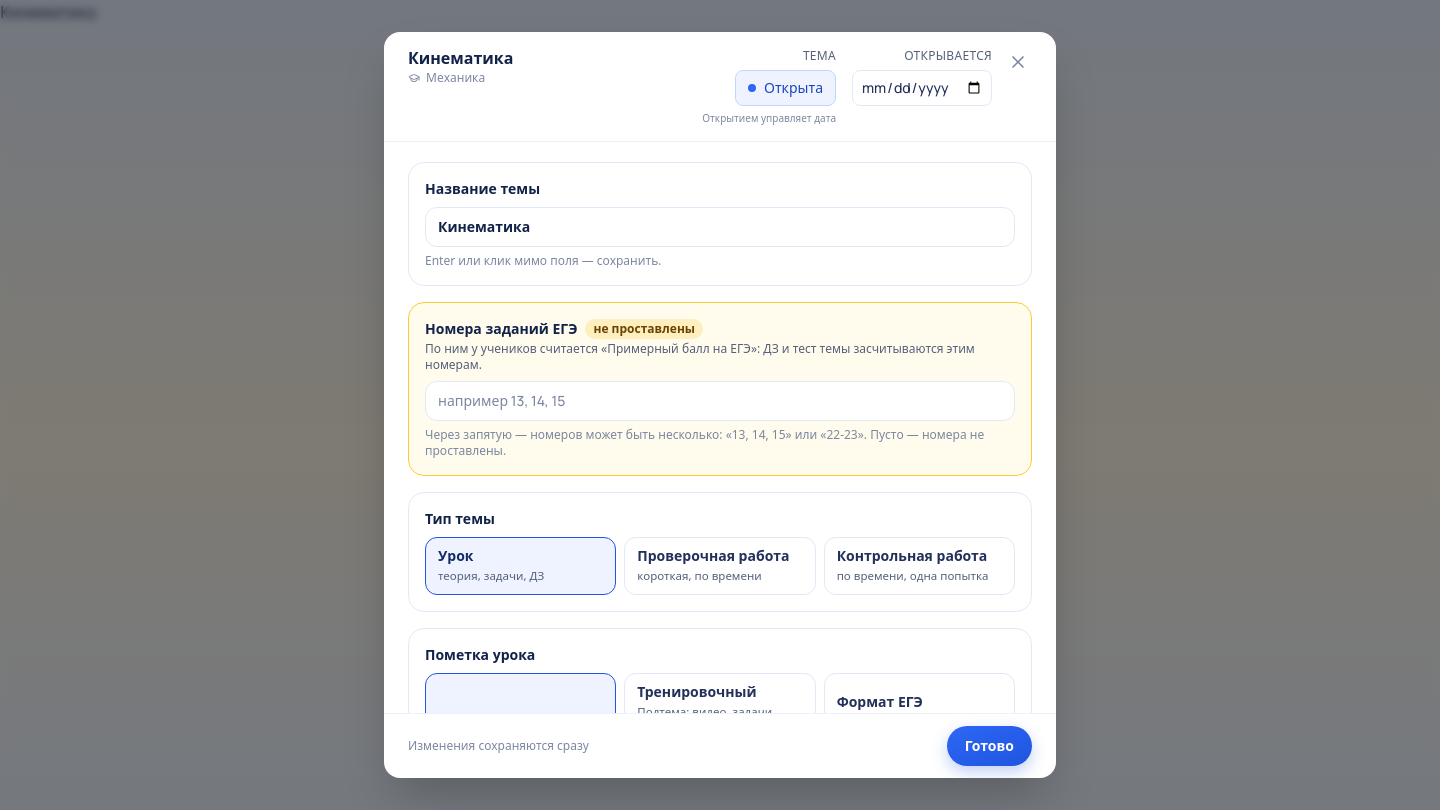
Test: Название темы в окне темы (§258) › Enter — сохраняет обрезанное название; заголовок окна и строка программы обновляются
Replace the text in the field with test id "topic-title-input" with "  Кинематика: равноускоренное движение  " at {"x": 720, "y": 227}, box [425,207,1015,247]
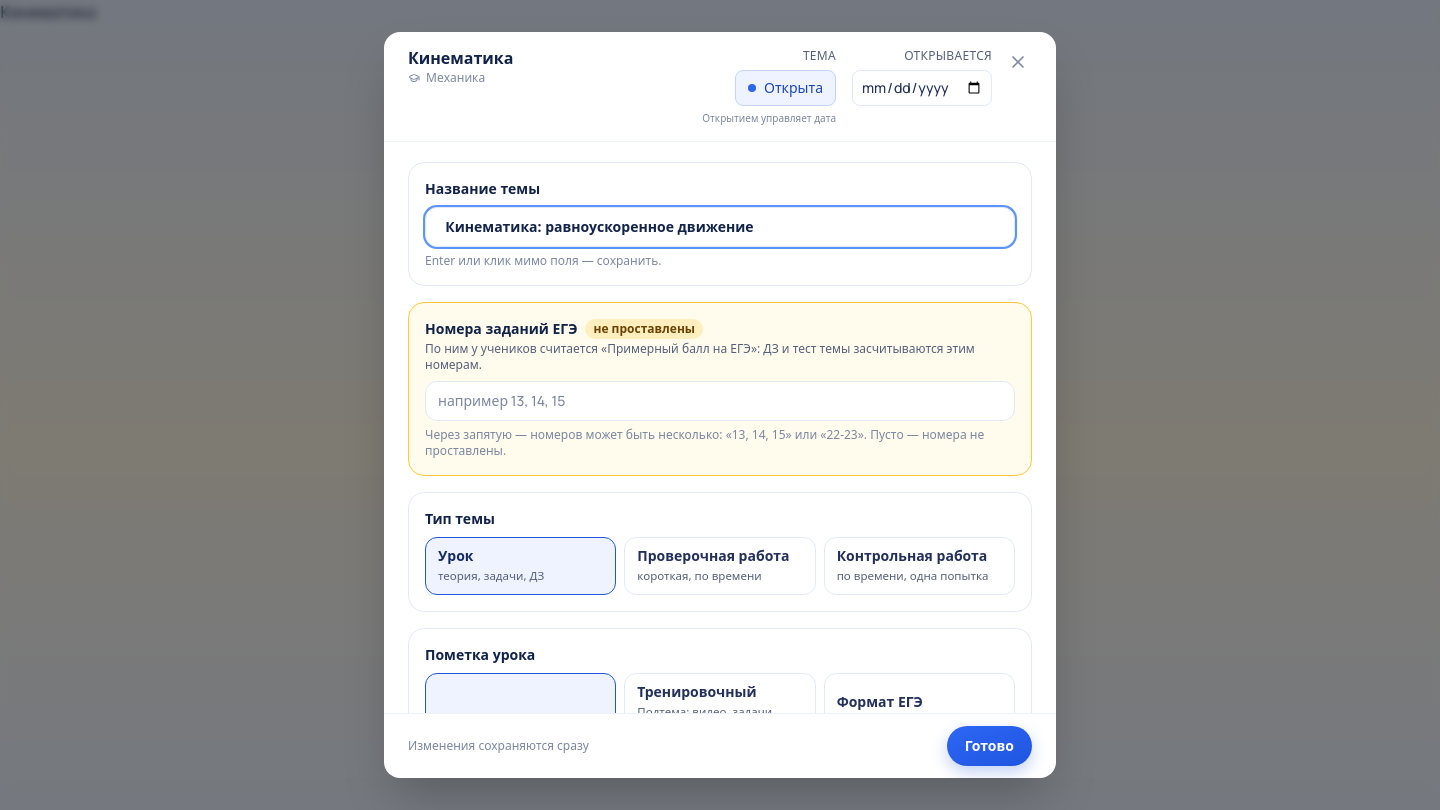
Press Enter in the field with test id "topic-title-input", box [425,207,1015,247]
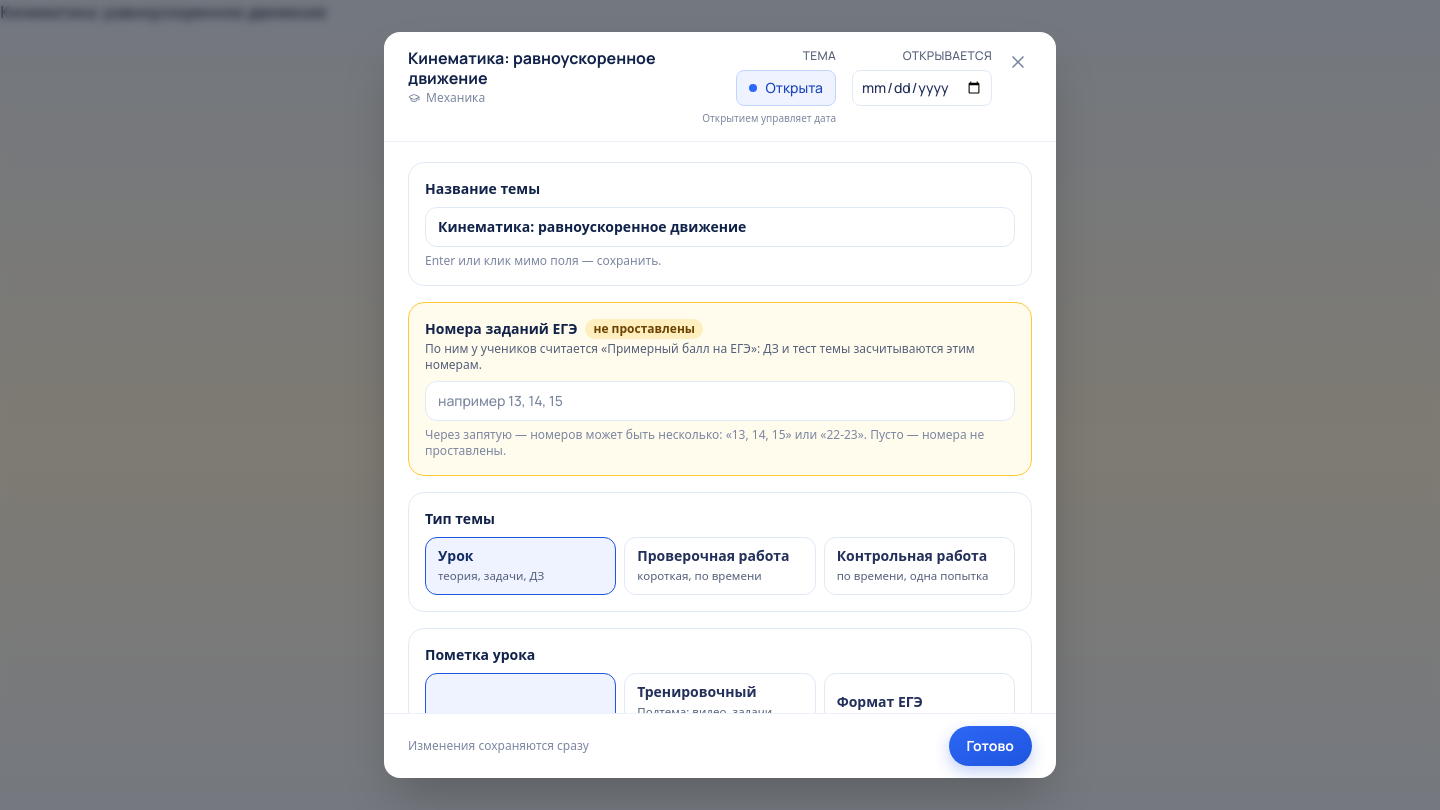
expect the heading reads "Кинематика: равноускоренное движение": met, box [408,47,656,89]
expect the text with test id "program-row" reads "Кинематика: равноускоренное движение": met, box [0,1,327,23]
